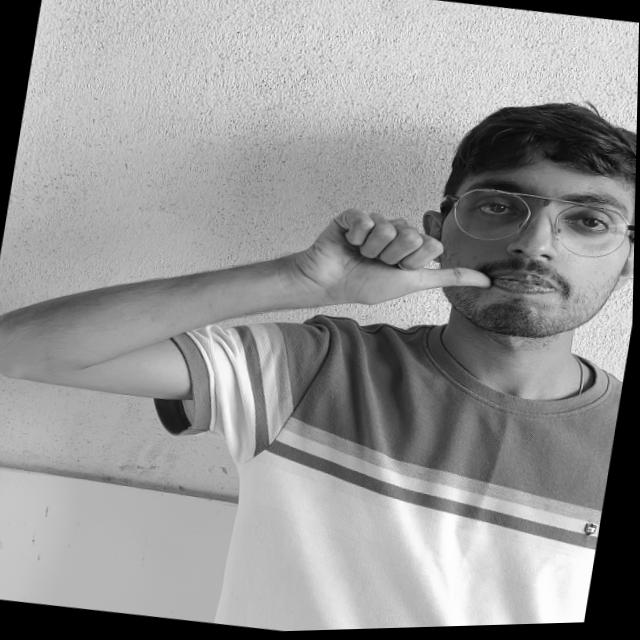Drink: (275, 185, 518, 341)
